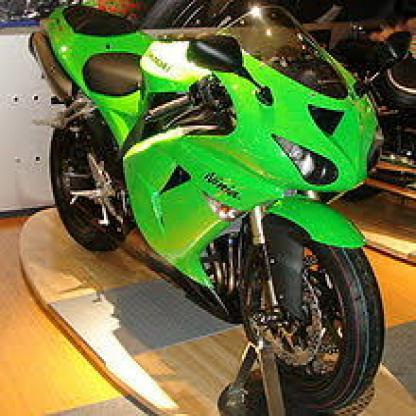Motorcycle: (32, 0, 395, 414)
